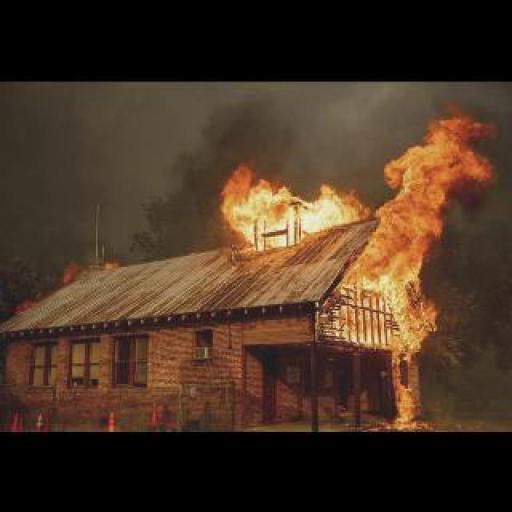smoke: (214, 98, 496, 427), (60, 259, 86, 285), (101, 256, 117, 269)
